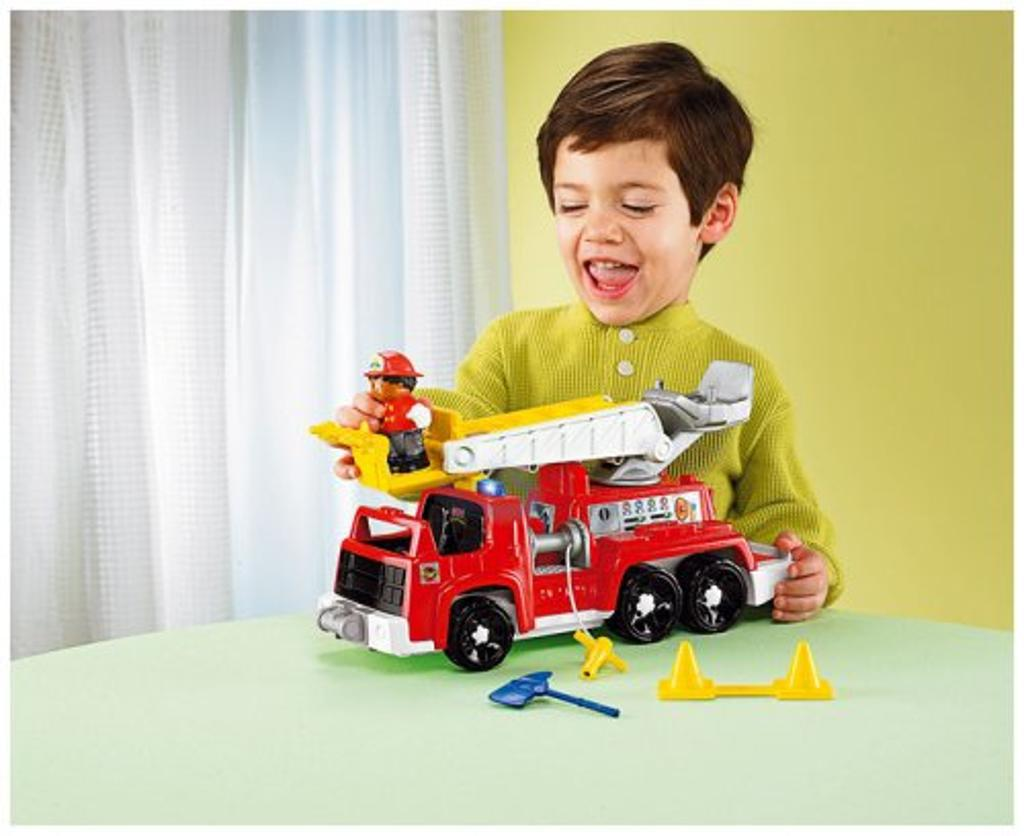face: (553, 133, 695, 327)
